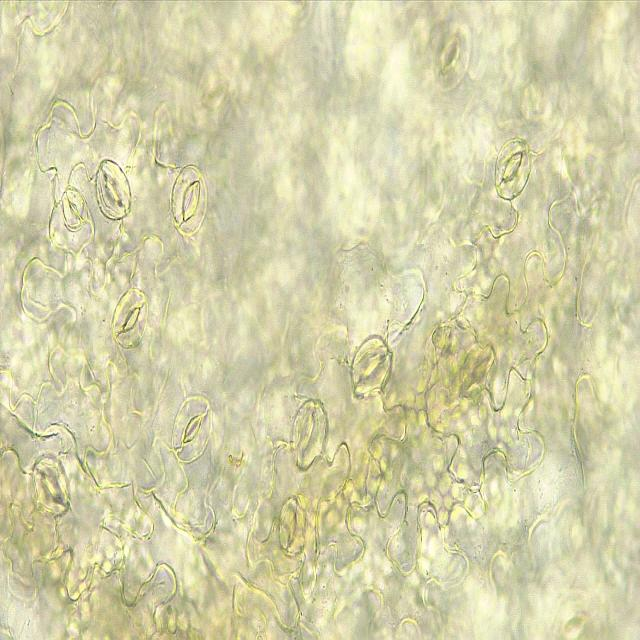Stomata: (171, 394, 213, 462), (170, 163, 208, 237), (432, 20, 472, 90), (290, 398, 327, 472), (351, 334, 393, 399), (30, 453, 71, 518), (111, 286, 150, 351), (494, 137, 532, 202), (96, 158, 132, 222), (278, 496, 306, 556), (61, 186, 88, 230)
